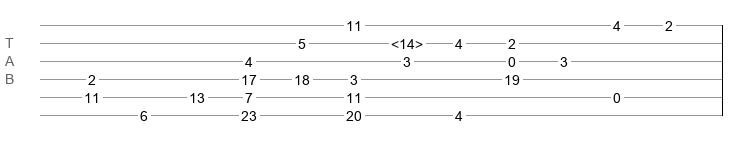0: (508, 54, 516, 64), (613, 90, 621, 100)
11: (84, 90, 100, 100), (346, 18, 362, 28), (346, 90, 362, 100)
13: (189, 90, 205, 100)
17: (241, 72, 257, 82)
18: (294, 72, 310, 82)
19: (504, 72, 520, 82)
2: (88, 72, 96, 82), (508, 36, 516, 46), (665, 18, 673, 28)
20: (346, 108, 362, 118)
23: (241, 108, 257, 118)
3: (350, 72, 358, 82), (403, 54, 411, 64), (560, 54, 568, 64)
4: (245, 54, 253, 64), (455, 108, 463, 118), (455, 36, 463, 46), (613, 18, 621, 28)
5: (298, 36, 306, 46)
6: (140, 108, 148, 118)
7: (245, 90, 253, 100)
harmonic: (391, 36, 423, 46)
